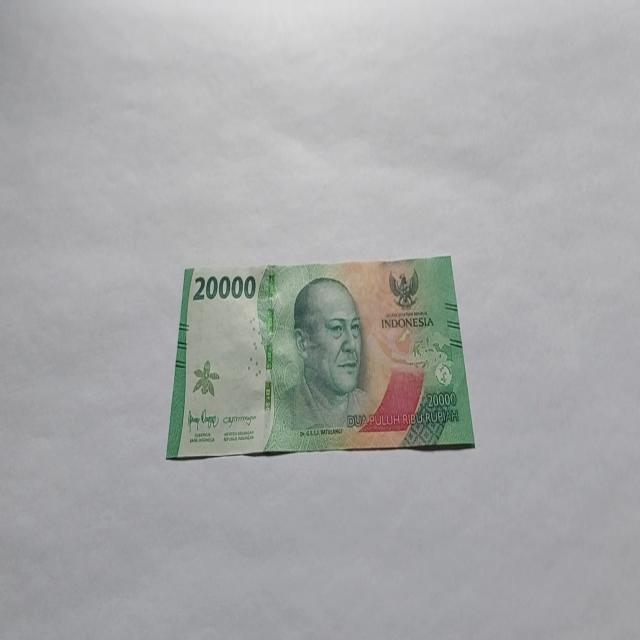dua puluh ribu rupiah: (165, 254, 476, 460)
